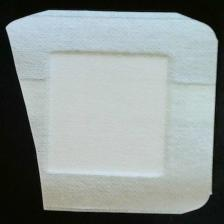Cut: (5, 6, 223, 220)
